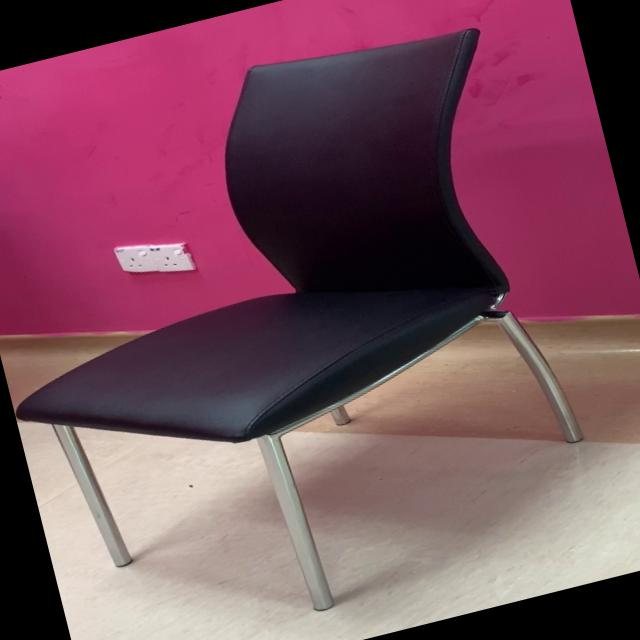Chair: (0, 7, 610, 640)
